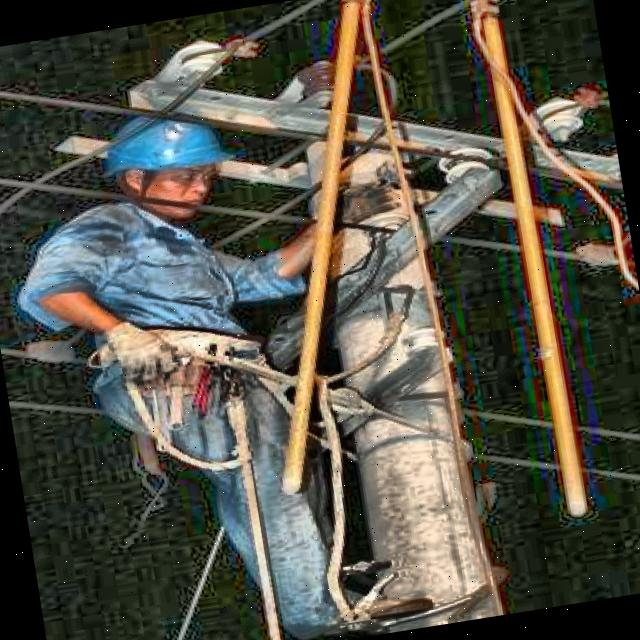helmet: (86, 105, 242, 230)
